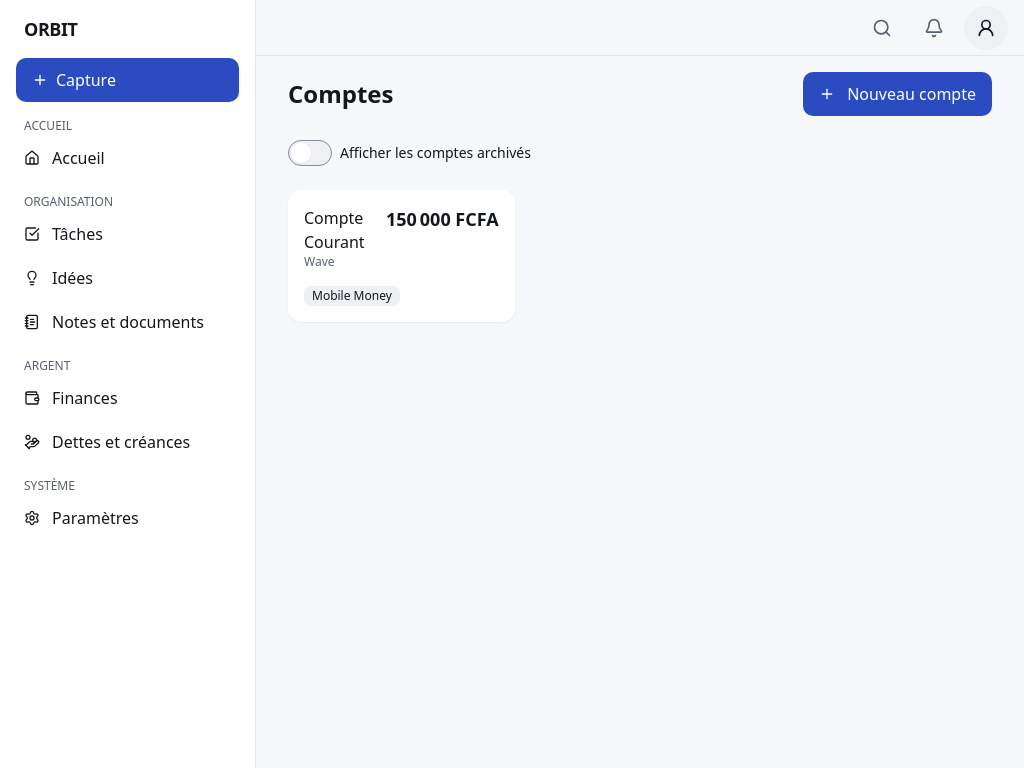
Scenario: Finance - Accounts page (/finance/accounts) › lists accounts and filters archived accounts
Expected: the link "Compte Courant" is shown, x1=304 y1=207 x2=365 y2=253
Expected: the text "Ancien Compte" is not shown
Click the switch named "Afficher les comptes archivés" at (310, 153), box x1=288 y1=140 x2=332 y2=166
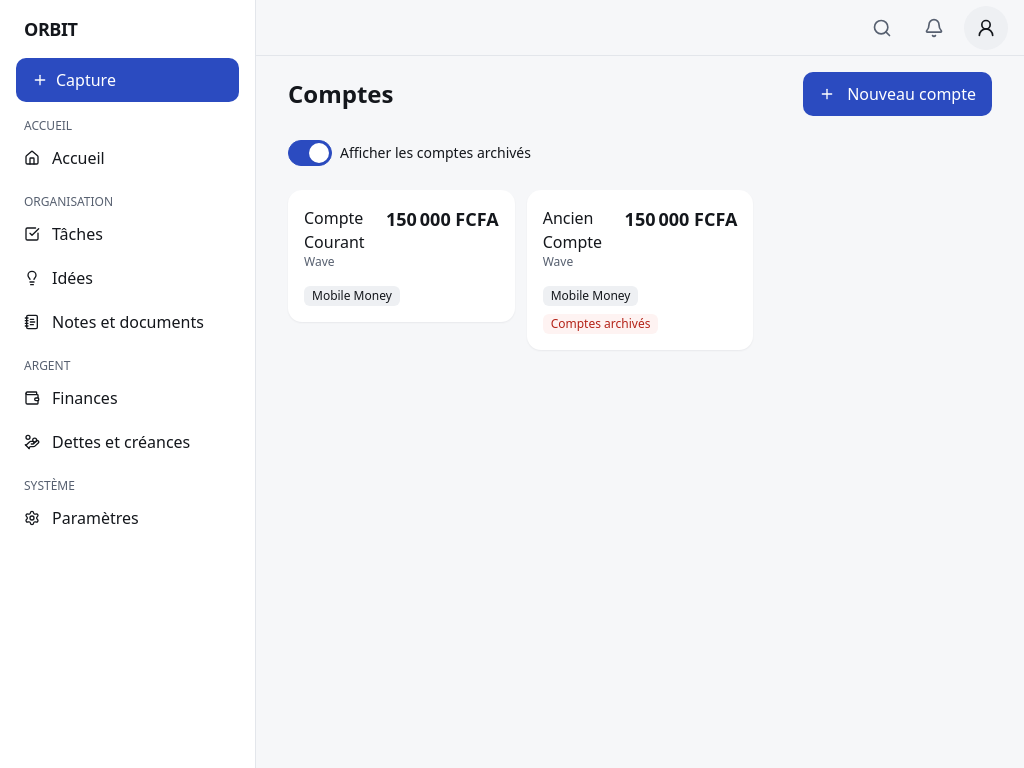
Expected: the link "Ancien Compte" is shown, x1=543 y1=207 x2=602 y2=253
